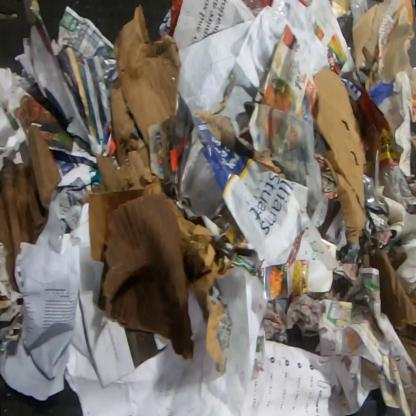cardboard: (81, 3, 235, 373), (0, 124, 63, 296), (312, 64, 366, 244)
soft_plastic: (363, 173, 388, 214), (269, 0, 291, 21)
